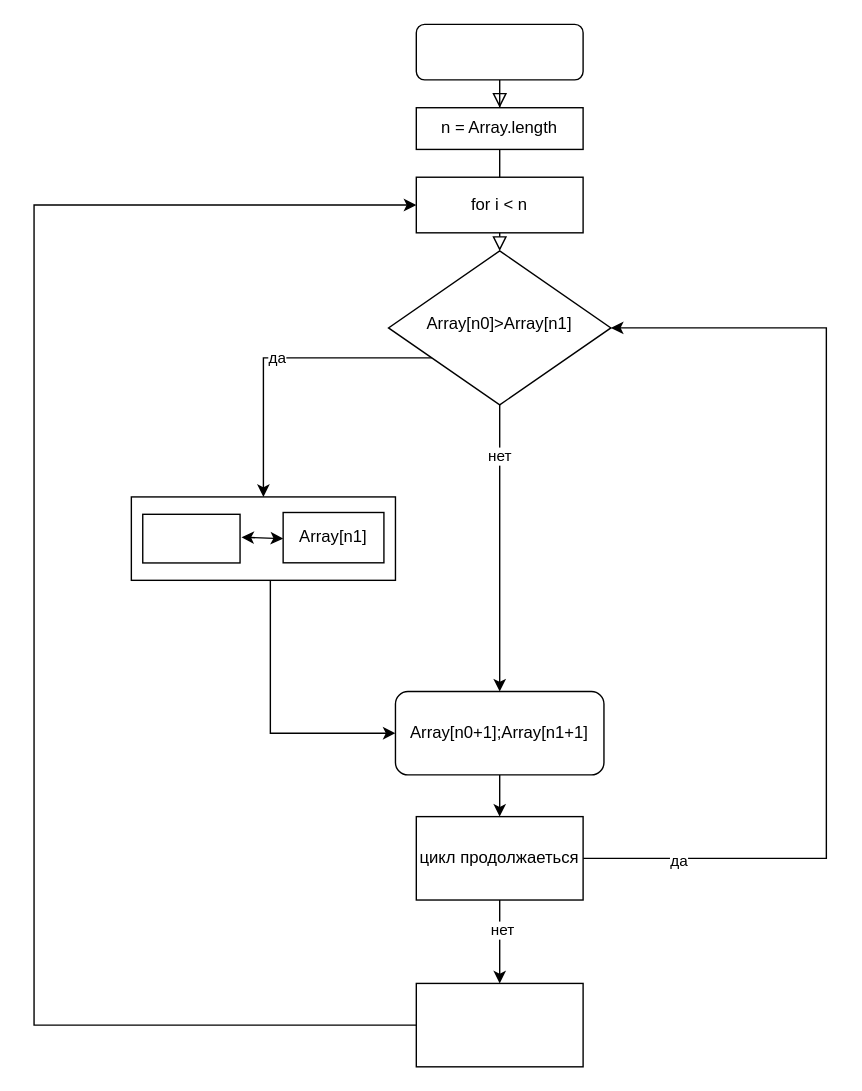
Some shapes in this 862 by 1091 pixel diagram are drawn without their labels. Here are the shapes that lost their labels. From the top down, the centre of each, then its label:
At (499,51): "массив".
At (190,538): "Array[n0]".
At (499,1024): "цикл закончился n--; повторяем пока n!=0".
